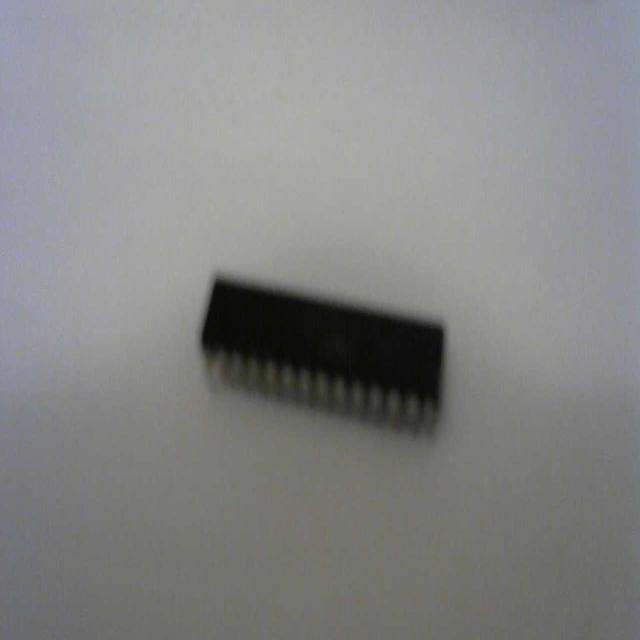atmega: (197, 267, 447, 441)
